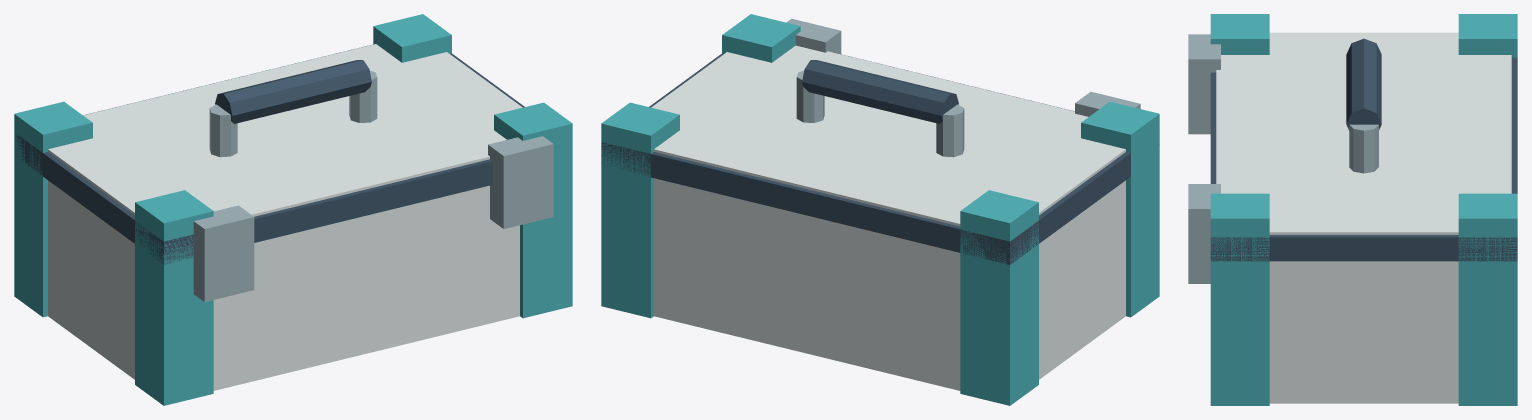
The model's file is orbital-field-station-specimen-transport-case__158.glb.
3 views of the same model, side by side, from view 1: azimuth 30°, elevation 25°; view 2: azimuth 150°, elevation 25°; view 3: azimuth 270°, elevation 25° (orthographic). The views are drawn at different scales.
Visible parts, largest first — view 1: shell, accent, dark, metal; view 2: shell, accent, dark, metal; view 3: shell, accent, dark, metal.
Part boxes in pixels (x1,y1,x2,y2): shell: (48,44,522,390); accent: (14,14,572,405); dark: (16,45,556,264); metal: (193,70,553,301); shell: (651,45,1125,390); accent: (601,14,1159,405); dark: (601,52,1159,264); metal: (786,18,1140,157); shell: (1216,32,1511,403); accent: (1210,14,1517,405); dark: (1210,38,1517,261); metal: (1188,34,1378,283).
Size of the model in its own units: 0.82 by 0.43 by 0.5575.
